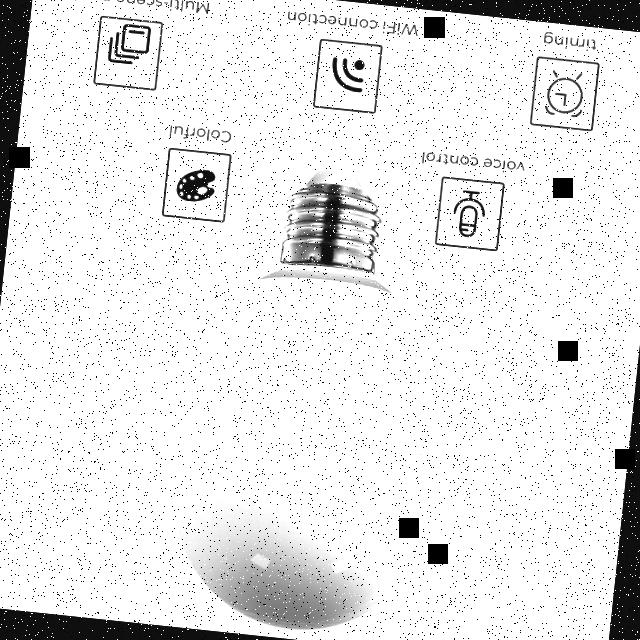light_bulb: (154, 144, 477, 640)
